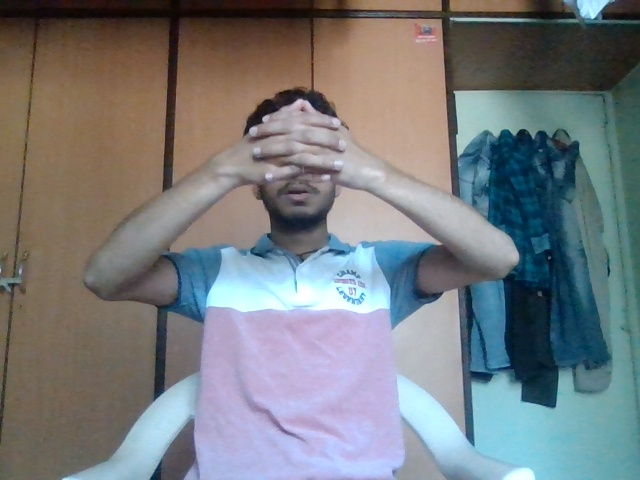good: (250, 92, 359, 196)
